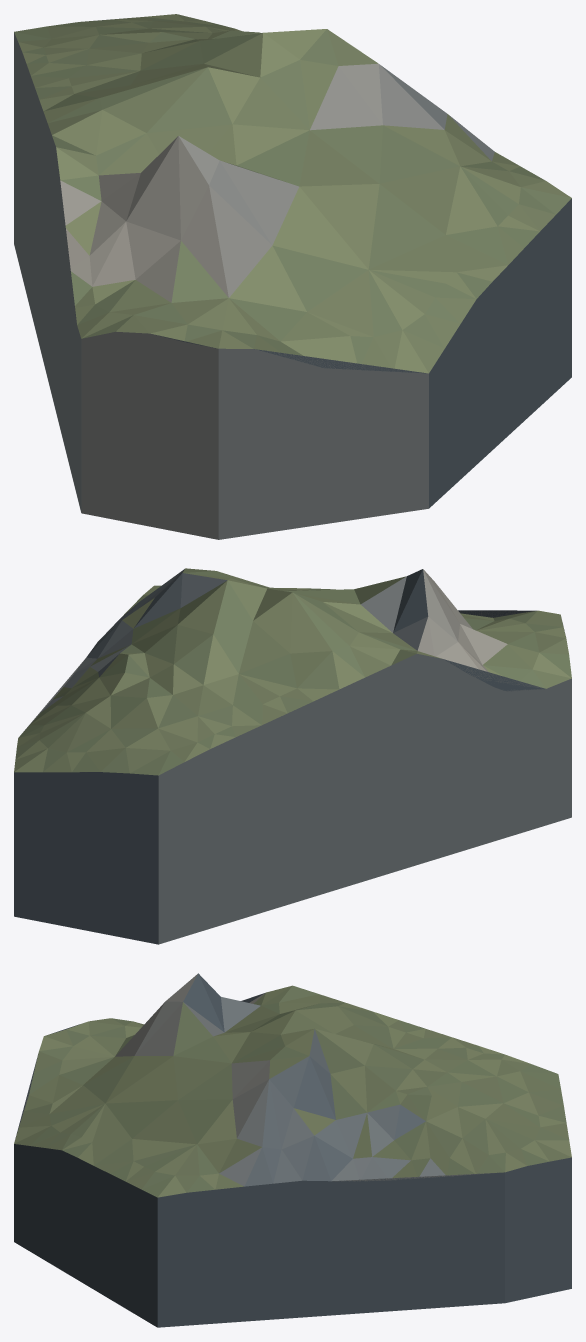
Rendered from cliff_eastern_plateau.glb.
3 views of the same model, one above another, from view 1: azimuth 30°, elevation 25°; view 2: azimuth 150°, elevation 25°; view 3: azimuth 270°, elevation 25° (orthographic). The views are drawn at different scales.
Parts seen in each view (by area): view 1: cliff_eastern_plateau; view 2: cliff_eastern_plateau; view 3: cliff_eastern_plateau.
Boxes of the visible parts, x1=… form: cliff_eastern_plateau: x1=14, y1=14, x2=571, y2=539; cliff_eastern_plateau: x1=14, y1=568, x2=571, y2=944; cliff_eastern_plateau: x1=14, y1=973, x2=571, y2=1327.
Size of the model in its own units: 130 by 77 by 171.
